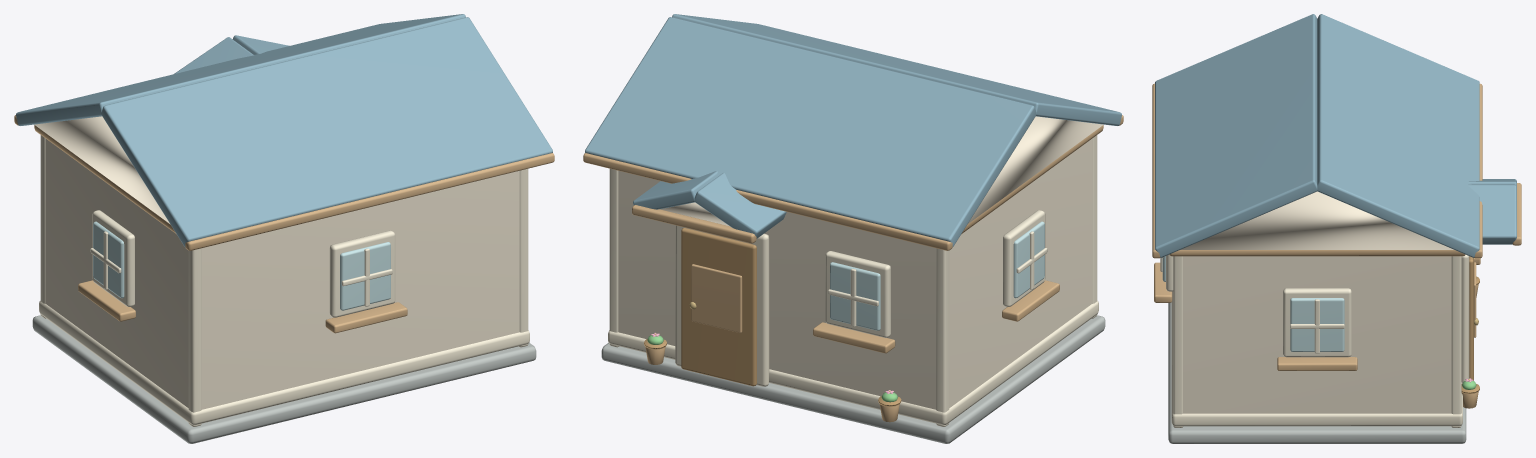
Rendered from cottage_4.glb.
3 renders of one model, left to right at view 1: azimuth 30°, elevation 25°; view 2: azimuth 150°, elevation 25°; view 3: azimuth 270°, elevation 25°, orthographic. The views are drawn at different scales.
Size of the model in its own units: 4.22 by 3.1 by 3.87.
